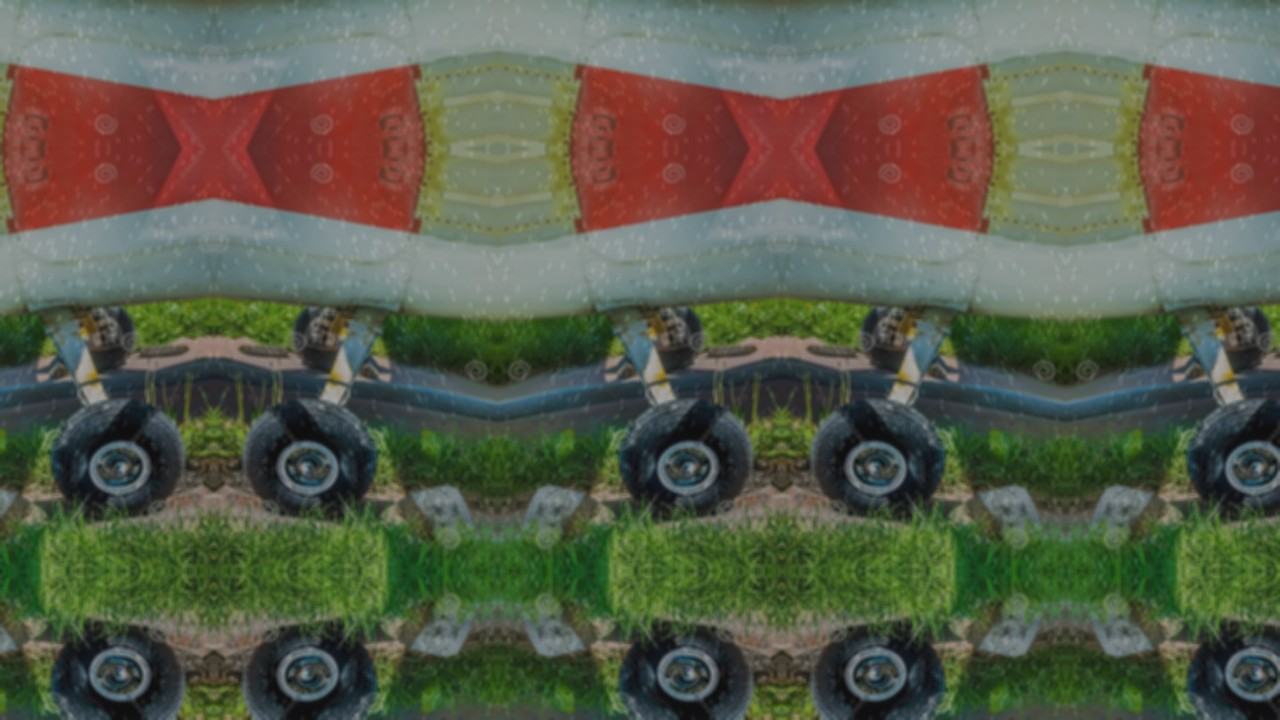chock: (377, 469, 485, 551), (510, 469, 618, 551), (946, 469, 1054, 551), (1079, 469, 1187, 551), (377, 592, 485, 674), (510, 592, 618, 674), (946, 592, 1054, 674), (1079, 592, 1187, 674), (0, 469, 50, 551), (0, 592, 50, 674), (612, 349, 640, 381), (924, 349, 952, 381), (44, 349, 71, 381), (356, 349, 383, 381), (1181, 349, 1208, 381)
wheel: (609, 390, 760, 525), (804, 390, 955, 525), (41, 390, 191, 525), (236, 390, 386, 525), (609, 617, 760, 720), (804, 617, 955, 720), (41, 617, 191, 720), (236, 617, 386, 720), (1178, 390, 1280, 525), (1178, 617, 1280, 720), (81, 303, 139, 371), (288, 303, 346, 371), (649, 303, 707, 371), (857, 303, 915, 371), (1218, 303, 1276, 371)
